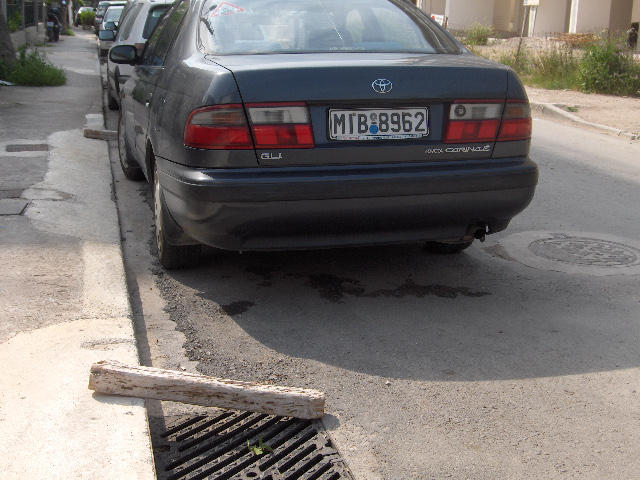licenseplate: (326, 105, 429, 136)
